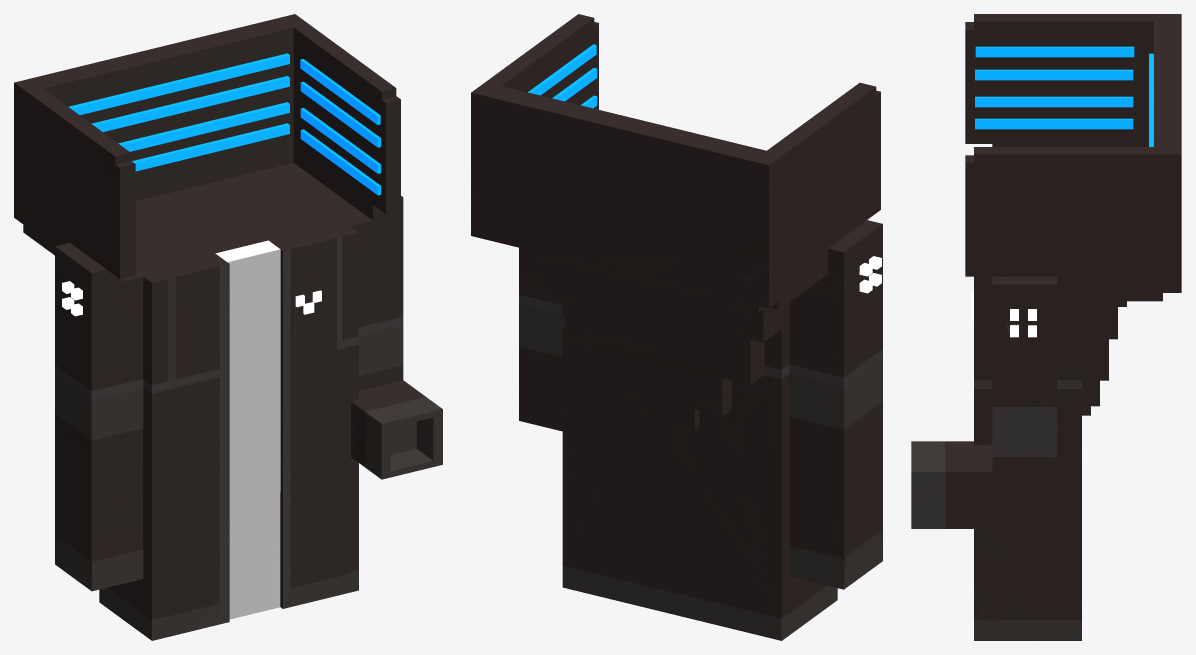
Rendered from cyber_jacket_blue.glb.
3 views of the same model, side by side, from view 1: azimuth 30°, elevation 25°; view 2: azimuth 150°, elevation 25°; view 3: azimuth 270°, elevation 25° (orthographic). The views are drawn at different scales.
Visible parts, largest first — view 1: cyber_jacket.001; view 2: cyber_jacket.001; view 3: cyber_jacket.001.
Boxes of the visible parts, left/top/right/bottom form: cyber_jacket.001: left=14, top=14, right=442, bottom=640; cyber_jacket.001: left=471, top=14, right=882, bottom=640; cyber_jacket.001: left=911, top=14, right=1181, bottom=640.
Size of the model in its own units: 4.3 by 6.2 by 3.01.
Materials: 2 (1 with a texture image).
